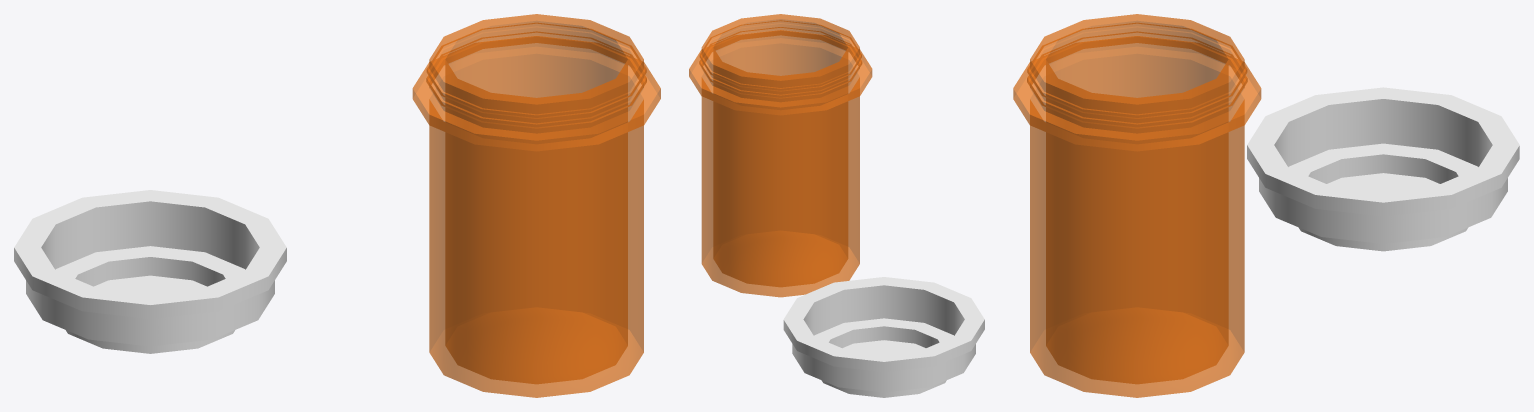
File: PillBottle.fbx
3 views of the same model, side by side, from view 1: azimuth 30°, elevation 25°; view 2: azimuth 150°, elevation 25°; view 3: azimuth 270°, elevation 25° (orthographic). The views are drawn at different scales.
Parts seen in each view (by area): view 1: Circle.009; view 2: Circle.009; view 3: Circle.009.
Boxes of the visible parts, left/top/right/bottom form: Circle.009: left=14, top=14, right=660, bottom=397; Circle.009: left=689, top=14, right=984, bottom=397; Circle.009: left=1013, top=14, right=1519, bottom=397.
Size of the model in its own units: 7.56 by 4.34 by 6.79.
